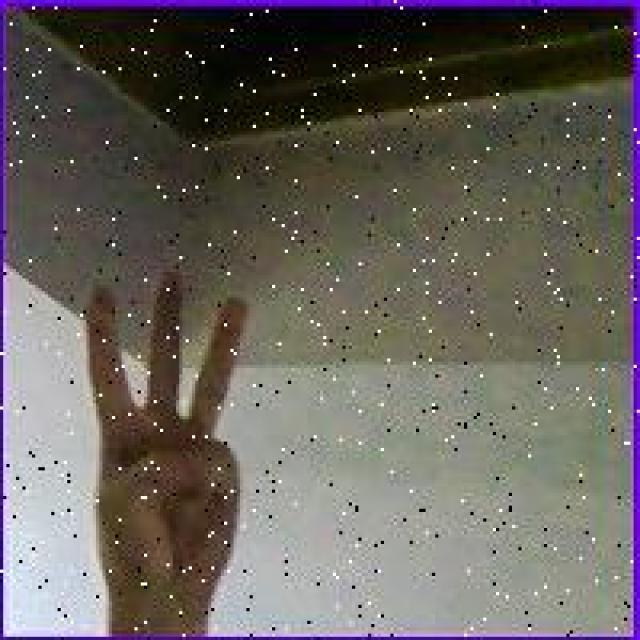W: (76, 269, 250, 598)
